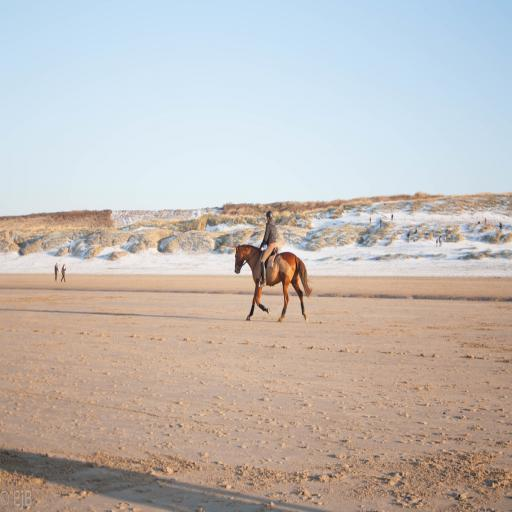Horse: (233, 240, 313, 322)
